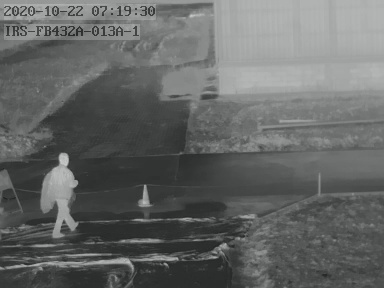person: (47, 152, 79, 237)
